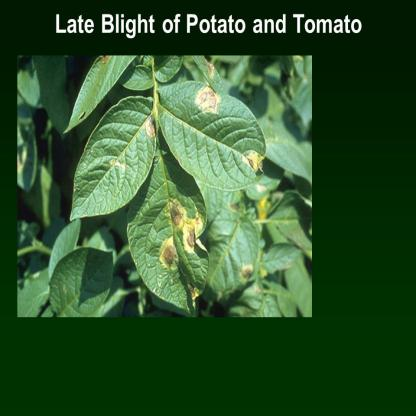potato leaf late blight: (153, 77, 269, 190), (124, 165, 211, 310), (69, 90, 157, 223)
